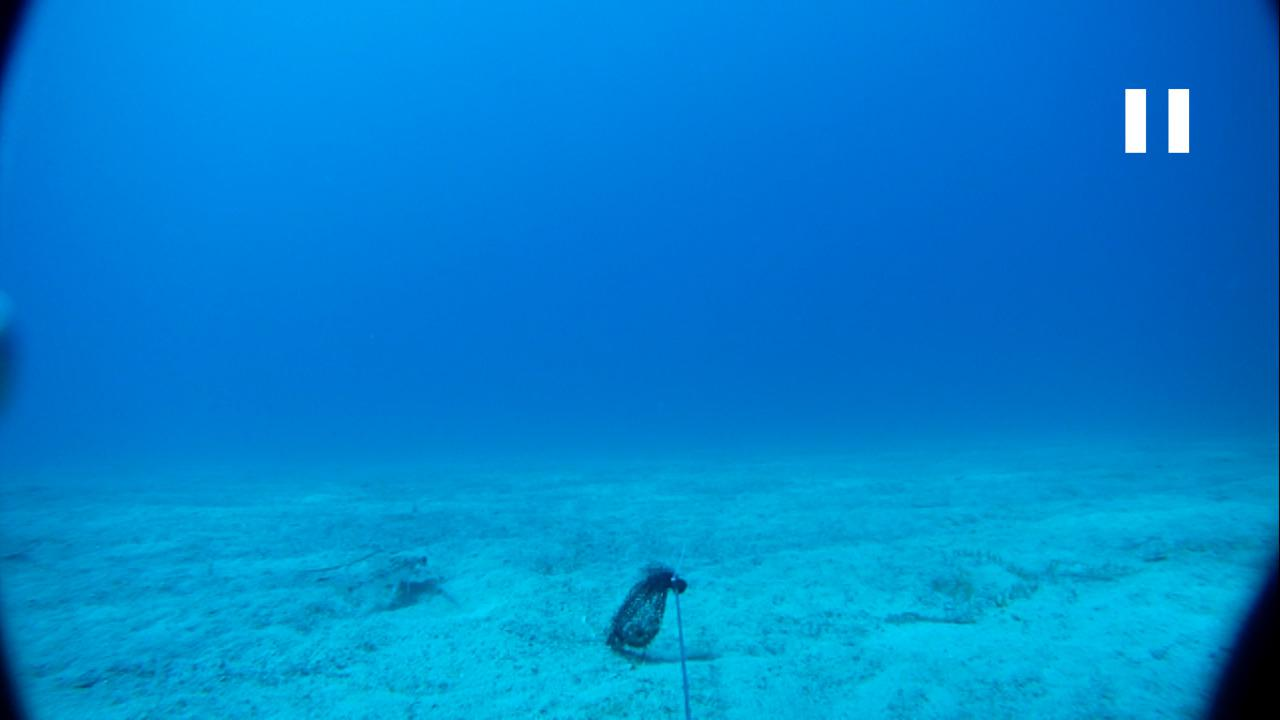dactylopterus: (326, 546, 445, 623)
